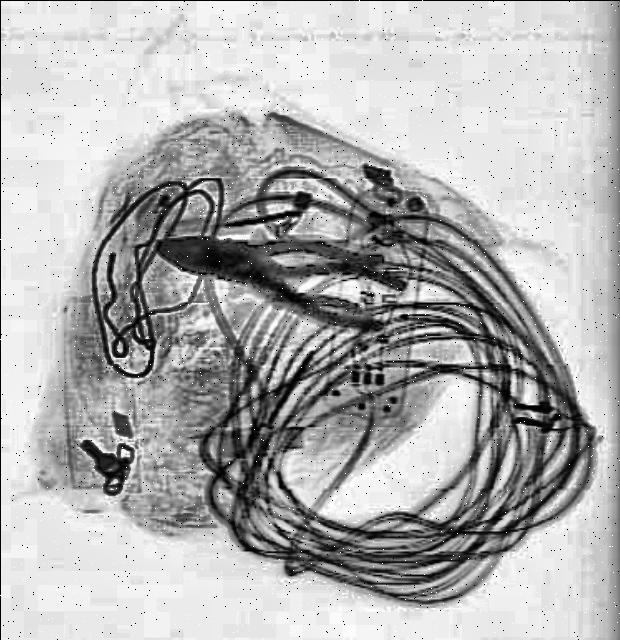Pliers: (151, 212, 388, 312), (232, 229, 410, 337)
